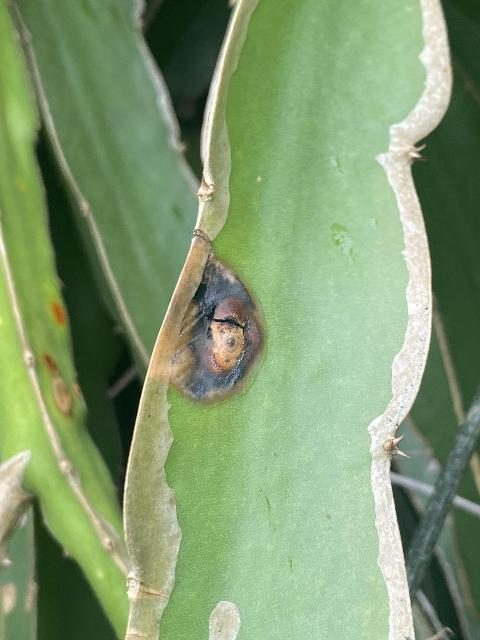stemcanker: (151, 241, 267, 407)
